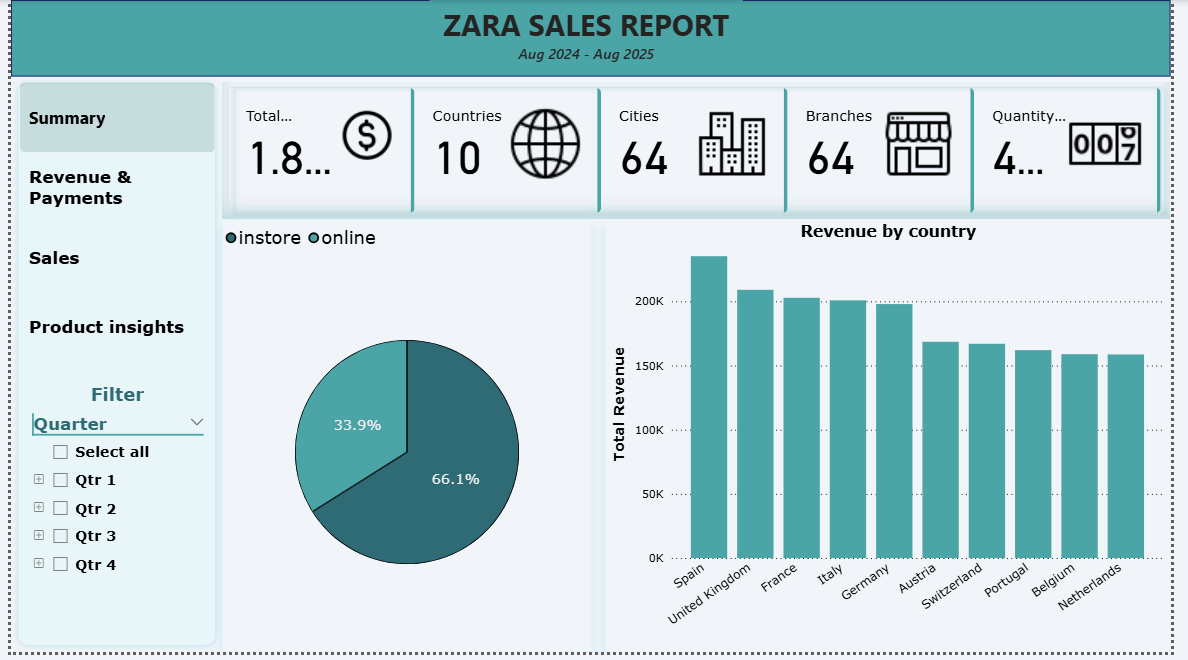

This screenshot's page, from the dashboard's own definition file:
{"tool":"powerbi","page":{"name":"Summary","canvas":[1280,720],"ordinal":0},"visuals":[{"type":"shape","box":[0,84.5,233.6,636.1],"z":0},{"type":"shape","box":[233.6,84.5,1046.9,157.4],"z":1000},{"type":"shape","box":[0,0,1280.5,84.5],"z":2000},{"type":"cardVisual","fields":{"Data":["Measures Table.Total Revenue","Measures Table.Countries","Measures Table.Cities","Measures Table.Total branches","Measures Table.Total Quantity sold"]},"box":[233.6,91.1,1046.9,150.7],"z":3000},{"type":"textbox","box":[462.2,0,346.2,79.5],"z":4000},{"type":"clusteredColumnChart","title":"Revenue by country","fields":{"Category":["Zara_branch.country"],"Y":["Measures Table.Total Revenue"]},"box":[656,241.8,624.5,478.7],"z":5000},{"type":"pieChart","fields":{"Category":["Zara_sales_data.channel"],"Y":["Sum(Zara_sales_data. quantity)"]},"box":[233.6,241.8,407.5,478.7],"z":6000},{"type":"pageNavigator","box":[9.9,91.1,215.3,311.4],"z":7000},{"type":"slicer","title":"Filter","fields":{"Values":["Zara_sales_data.sale_date.Variation.Date Hierarchy.Quarter","Zara_sales_data.sale_date.Variation.Date Hierarchy.Month"]},"box":[9.9,422.4,215.3,261.7],"z":8000}]}

Visuals, with their boxes in screenshot pixels (x1, y1, x2, y2), scaled from the page's 1280x720 canvas onto the 1188x660 screenshot:
shape: crop(0, 77, 217, 659)
shape: crop(217, 77, 1187, 222)
shape: crop(0, 0, 1187, 77)
cardVisual - Measures Table.Total Revenue x Measures Table.Countries: crop(217, 84, 1187, 222)
textbox: crop(429, 0, 750, 73)
"Revenue by country" clusteredColumnChart: crop(609, 222, 1187, 659)
pieChart - Zara_sales_data.channel x Sum(Zara_sales_data. quantity): crop(217, 222, 595, 659)
pageNavigator: crop(9, 84, 209, 369)
"Filter" slicer: crop(9, 387, 209, 627)
